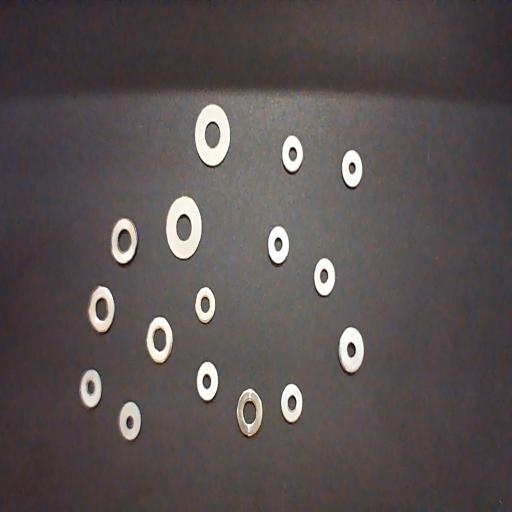washer: (166, 195, 202, 260), (194, 104, 230, 166), (111, 216, 138, 264), (146, 317, 173, 364), (88, 285, 114, 333), (237, 388, 262, 436), (338, 327, 364, 373), (340, 149, 363, 188), (118, 402, 141, 441), (196, 362, 219, 400), (281, 135, 303, 174), (313, 258, 335, 296), (80, 369, 102, 407), (268, 226, 289, 264), (281, 384, 302, 422), (195, 287, 216, 324)
